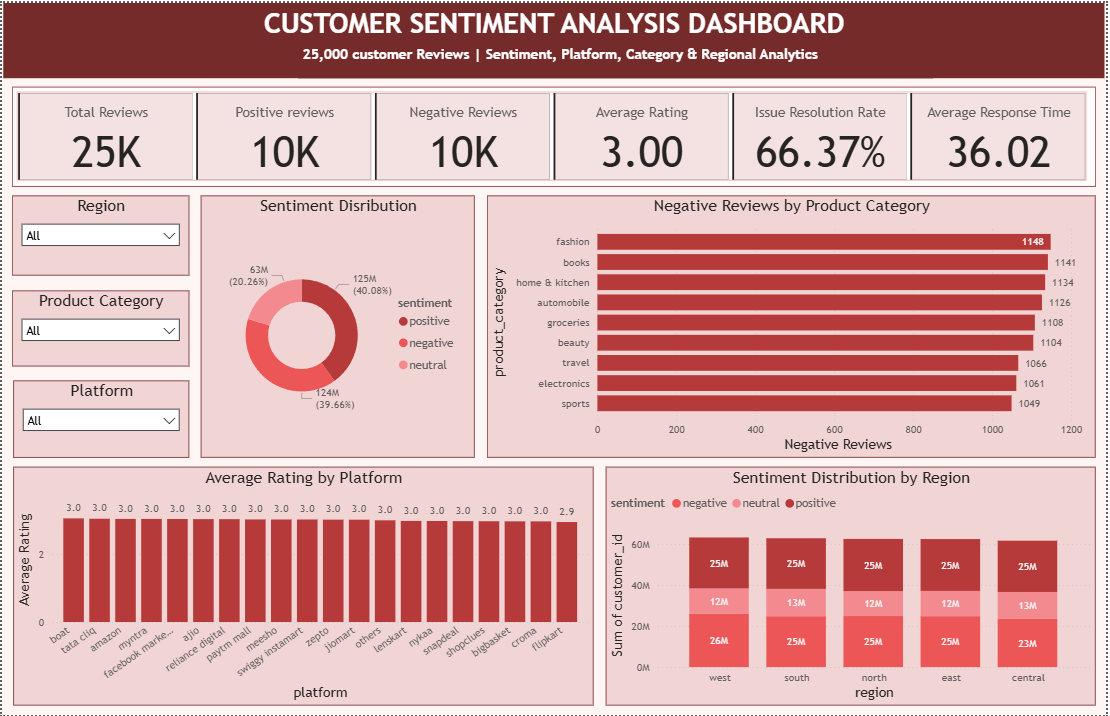

Layout of this report page (visuals, bound fields, positions):
{"tool":"powerbi","page":{"name":"Page 1","canvas":[1280,825],"ordinal":0},"visuals":[{"type":"donutChart","title":"Sentiment Disribution","fields":{"Category":["cleaned_customer_sentiment.sentiment"],"Y":["Sum(cleaned_customer_sentiment.customer_id)"]},"box":[230.9,223.8,317.9,303.6],"z":0},{"type":"clusteredBarChart","title":"Negative Reviews by Product Category","fields":{"Category":["cleaned_customer_sentiment.product_category"],"Y":["cleaned_customer_sentiment.Negative Reviews"]},"box":[563,223.8,705.6,303.6],"z":1000},{"type":"clusteredColumnChart","title":"Average Rating by Platform","fields":{"Category":["cleaned_customer_sentiment.platform"],"Y":["cleaned_customer_sentiment.Average Rating"]},"box":[13,537.7,672.5,276.8],"z":2000},{"type":"columnChart","title":"Sentiment Distribution by Region","fields":{"Category":["cleaned_customer_sentiment.region"],"Series":["cleaned_customer_sentiment.sentiment"],"Y":["Sum(cleaned_customer_sentiment.customer_id)"]},"box":[700,537.7,568.1,276.8],"z":3000},{"type":"slicer","title":"Region","fields":{"Values":["cleaned_customer_sentiment.region"]},"box":[11.4,223.8,205.3,92.6],"z":4000},{"type":"slicer","title":"Product Category","fields":{"Values":["cleaned_customer_sentiment.product_category"]},"box":[11.4,333.5,205.3,88.4],"z":5000},{"type":"slicer","title":"Platform","fields":{"Values":["cleaned_customer_sentiment.platform"]},"box":[12.8,437.6,203.8,89.8],"z":6000},{"type":"textbox","box":[1.4,0,1277.1,86.9],"z":7000},{"type":"cardVisual","fields":{"Data":["cleaned_customer_sentiment.Total Reviews","cleaned_customer_sentiment.Positive reviews","cleaned_customer_sentiment.Negative Reviews","cleaned_customer_sentiment.Average Rating","cleaned_customer_sentiment.Issue Resolution Rate","cleaned_customer_sentiment.Average Response Time"]},"box":[11.6,97.1,1256.5,115.9],"z":8000},{"type":"textbox","box":[343.5,44.9,736.2,42],"z":9000}]}

Visuals, with their boxes in screenshot pixels (x1, y1, x2, y2), scaled from the page's 1280x825 canvas onto the 1110x716 screenshot:
"Sentiment Disribution" donutChart: [left=200, top=194, right=476, bottom=458]
"Negative Reviews by Product Category" clusteredBarChart: [left=488, top=194, right=1100, bottom=458]
"Average Rating by Platform" clusteredColumnChart: [left=11, top=467, right=594, bottom=707]
"Sentiment Distribution by Region" columnChart: [left=607, top=467, right=1100, bottom=707]
"Region" slicer: [left=10, top=194, right=188, bottom=275]
"Product Category" slicer: [left=10, top=289, right=188, bottom=366]
"Platform" slicer: [left=11, top=380, right=188, bottom=458]
textbox: [left=1, top=0, right=1109, bottom=75]
cardVisual - cleaned_customer_sentiment.Total Reviews x cleaned_customer_sentiment.Positive reviews: [left=10, top=84, right=1100, bottom=185]
textbox: [left=298, top=39, right=936, bottom=75]
